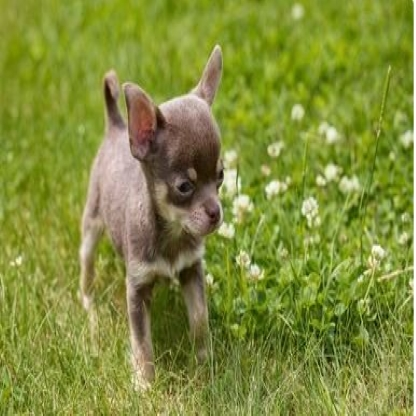chihuahua: (76, 43, 228, 381)
